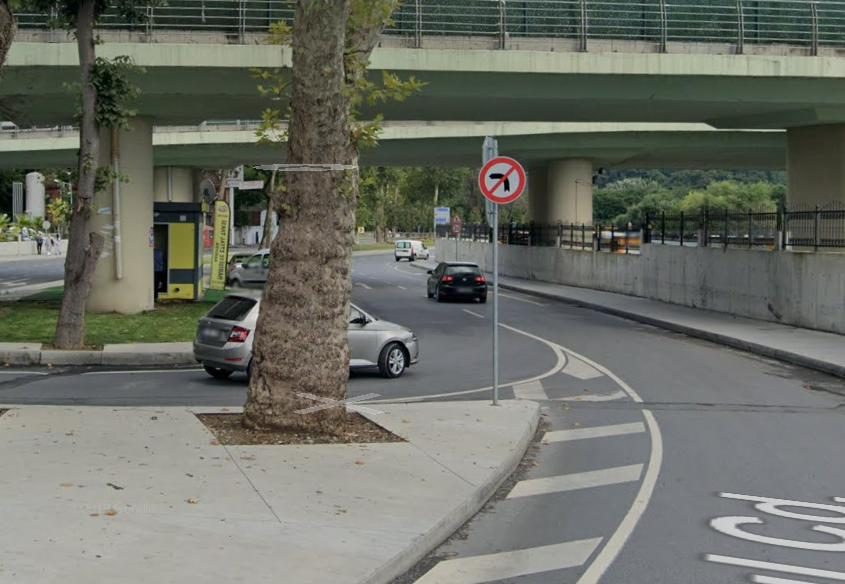leftturnsareforbidden: (479, 158, 529, 206)
